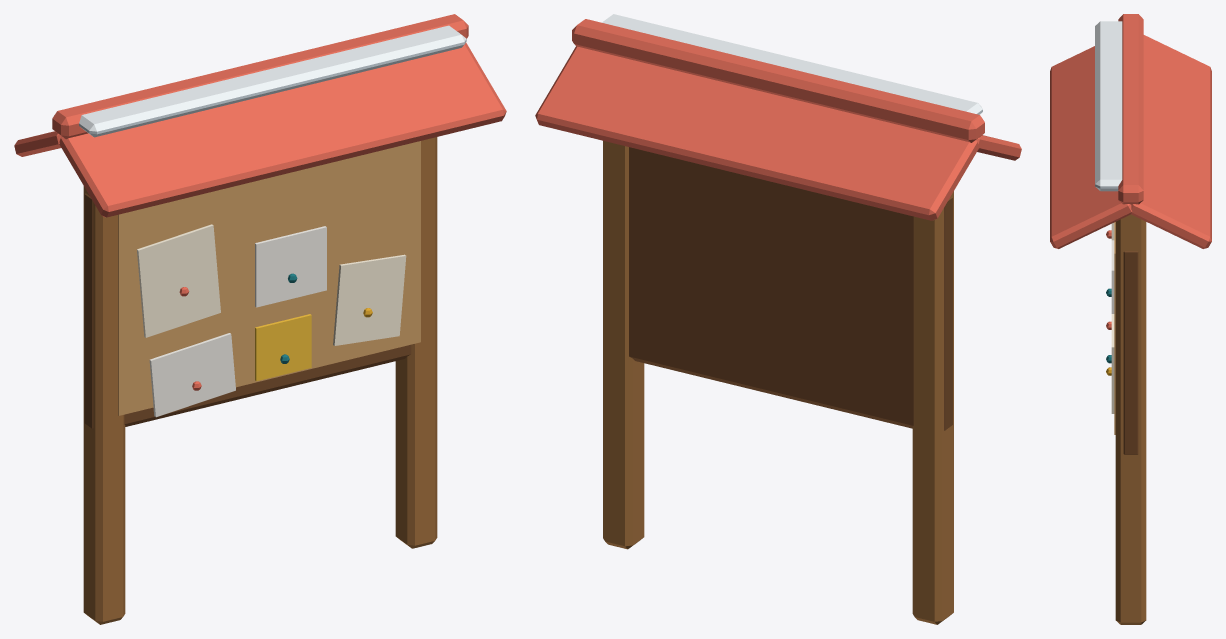
File: notice_board.glb
3 views of the same model, side by side, from view 1: azimuth 30°, elevation 25°; view 2: azimuth 150°, elevation 25°; view 3: azimuth 270°, elevation 25° (orthographic). The views are drawn at different scales.
Parts seen in each view (by area): view 1: notice_board; view 2: notice_board; view 3: notice_board.
Part boxes in pixels (left/top/right/bottom): notice_board: left=14, top=14, right=506, bottom=624; notice_board: left=535, top=14, right=1021, bottom=624; notice_board: left=1050, top=14, right=1211, bottom=624.
Bounding box in the file's own units: 1.62 × 1.95 × 0.6319.
